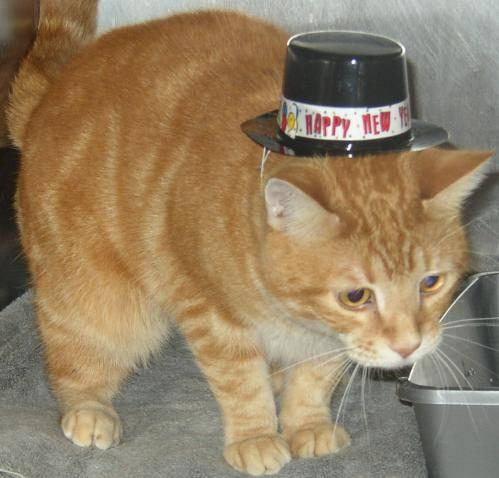cat: (6, 0, 492, 474)
